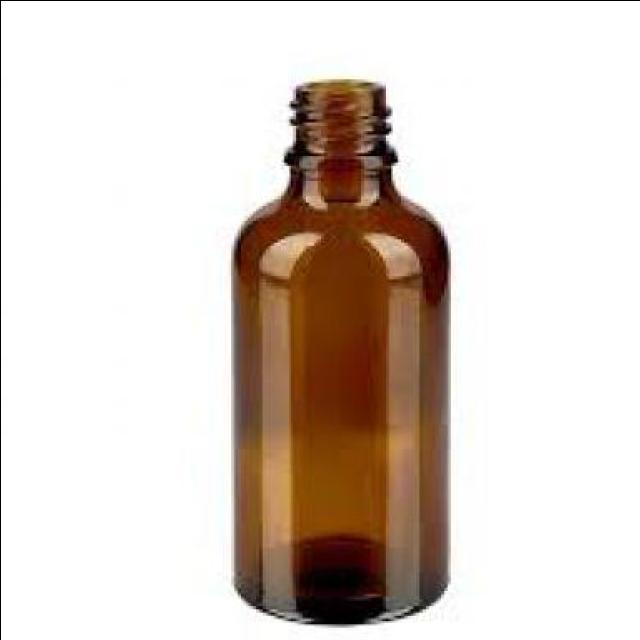kaca: (226, 78, 446, 620)
